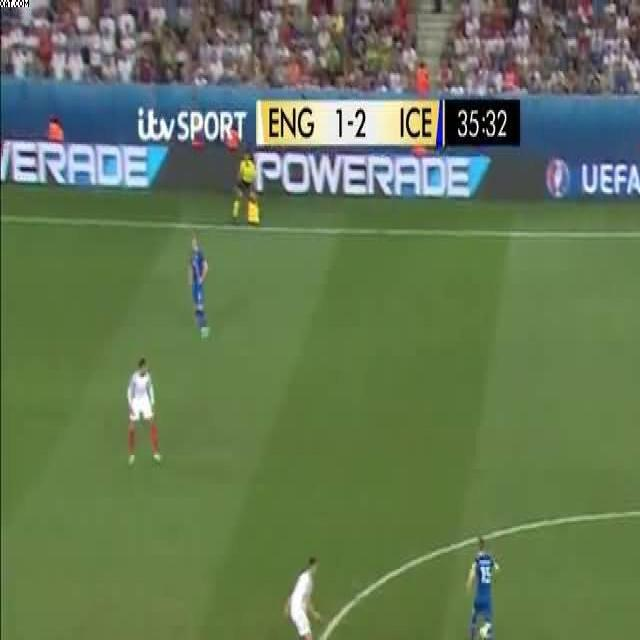ball: (480, 625, 490, 640)
player-white: (128, 358, 160, 467), (465, 537, 497, 640), (285, 556, 323, 640), (185, 238, 211, 339), (233, 153, 259, 223)
